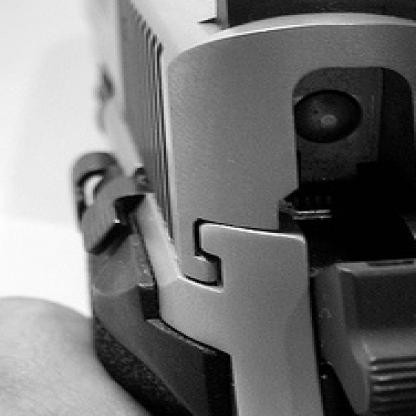gun: (77, 0, 414, 415)
